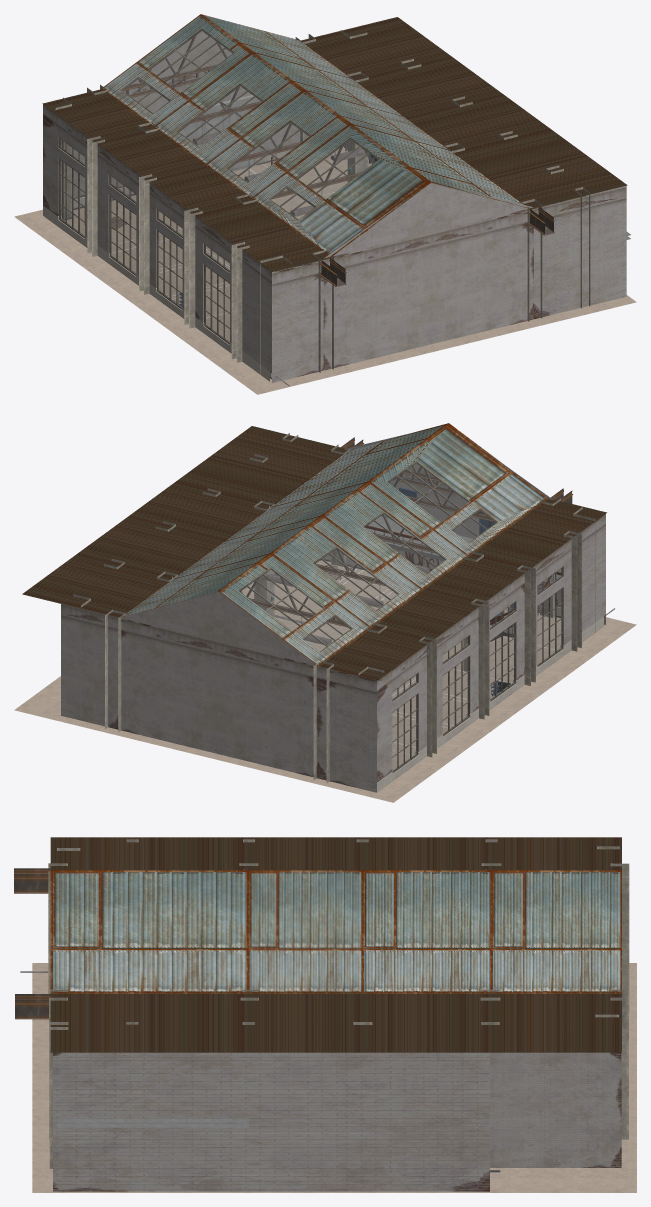
Rendered from Garage.fbx.
3 renders of one model, top to bottom at view 1: azimuth 30°, elevation 25°; view 2: azimuth 150°, elevation 25°; view 3: azimuth 270°, elevation 25°, orthographic. The views are drawn at different scales.
Parts seen in each view (by area): view 1: roof, wall, Frame, windows, Garage_ground, Door; view 2: roof, wall, Frame, Garage_ground, windows, Stairs; view 3: roof, wall, Garage_ground, Frame, Stairs.
Part boxes in pixels (x1,y1,x2,y2): roof: [42, 14, 627, 271]; wall: [43, 26, 626, 382]; Frame: [43, 28, 590, 381]; windows: [60, 31, 377, 342]; Garage_ground: [14, 146, 636, 394]; Door: [61, 74, 447, 385]; roof: [22, 423, 606, 680]; wall: [61, 431, 605, 792]; Frame: [73, 433, 603, 792]; Garage_ground: [14, 560, 636, 802]; windows: [240, 463, 561, 771]; Stairs: [365, 516, 561, 641]; roof: [50, 837, 621, 1052]; wall: [53, 1052, 621, 1191]; Garage_ground: [32, 963, 636, 1192]; Frame: [14, 839, 629, 1172]; Stairs: [57, 1118, 248, 1127].
Bounding box in the file's own units: 3643 × 1481 × 4122.
11 materials, 11 textured.
